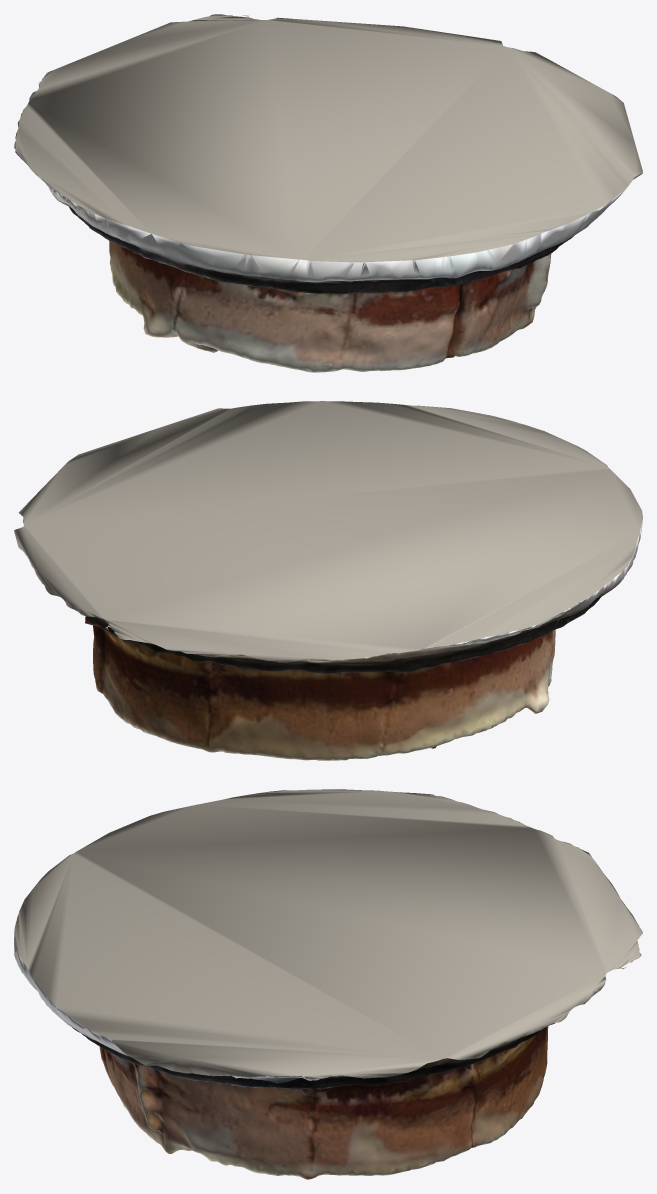
File: cake_41490.obj
3 renders of one model, top to bottom at view 1: azimuth 30°, elevation 25°; view 2: azimuth 150°, elevation 25°; view 3: azimuth 270°, elevation 25°, orthographic. The views are drawn at different scales.
Size of the model in its own units: 0.1761 by 0.0567 by 0.1767.
Materials: 1 (1 with a texture image).
